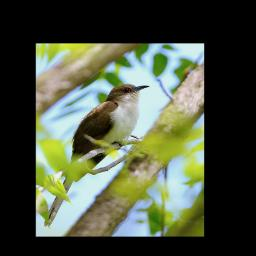Cuckoo: (42, 82, 150, 228)
